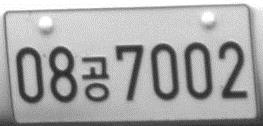0: (183, 41, 214, 100), (148, 43, 180, 100), (14, 46, 44, 103)
2: (217, 40, 248, 100)
7: (114, 43, 145, 102)
8: (47, 45, 78, 102)
공: (79, 55, 111, 102)
